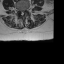CCS_normal: (21, 8, 23, 17)
LFS_severe_stenosis: (24, 7, 26, 13)
LLS_stenosis: (23, 8, 24, 15)
RFS_severe_stenosis: (18, 7, 20, 13)
RLS_stenosis: (20, 8, 21, 15)
